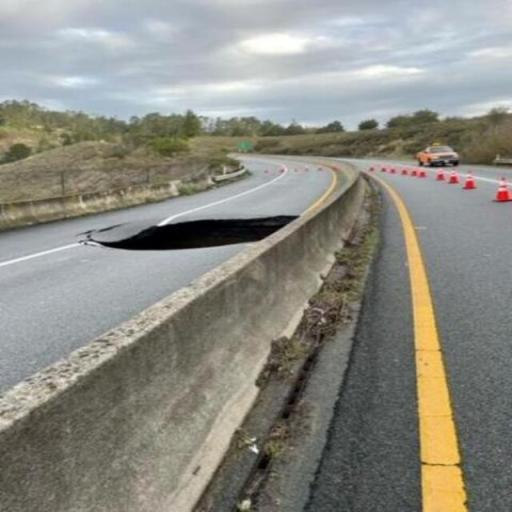Concentric_Crack: (81, 215, 299, 250)
